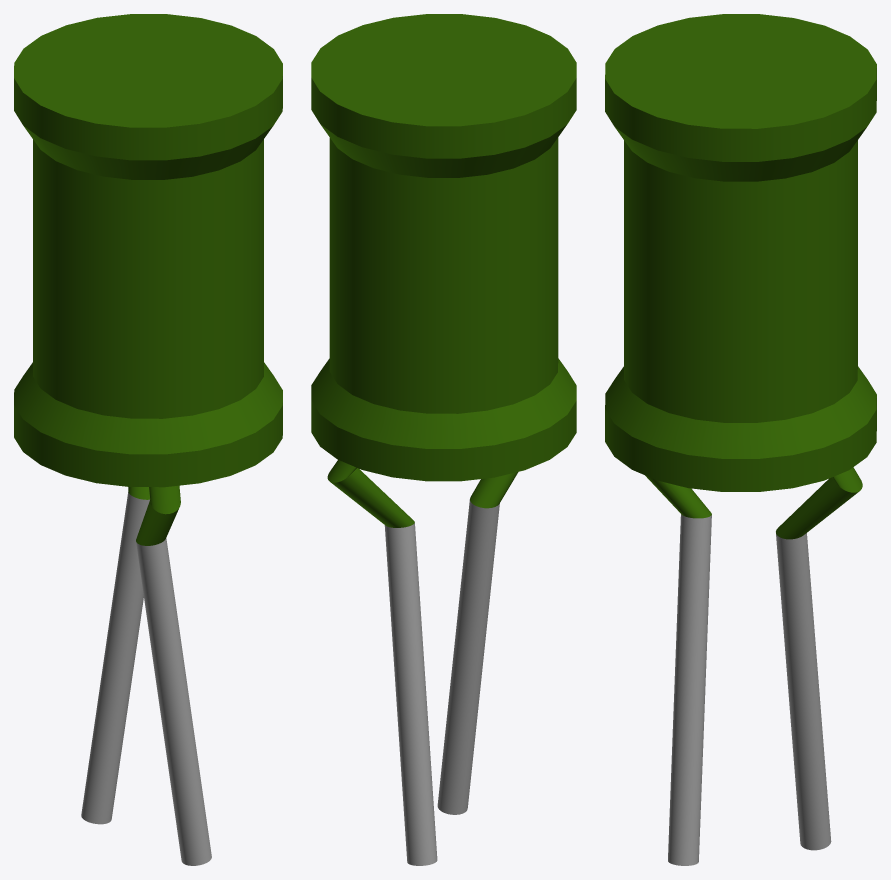
Rendered from bobin.obj.
The picture shows the model from 3 angles, left to right: view 1: azimuth 30°, elevation 25°; view 2: azimuth 150°, elevation 25°; view 3: azimuth 270°, elevation 25°; orthographic projection. The views are drawn at different scales.
Visible parts, largest first — view 1: Mesh1 Model; view 2: Mesh1 Model; view 3: Mesh1 Model.
Boxes of the visible parts, x1=… form: Mesh1 Model: x1=14, y1=14, x2=282, y2=865; Mesh1 Model: x1=311, y1=14, x2=576, y2=865; Mesh1 Model: x1=605, y1=14, x2=876, y2=865.
Bounding box in the file's own units: 298 × 945 × 298.
